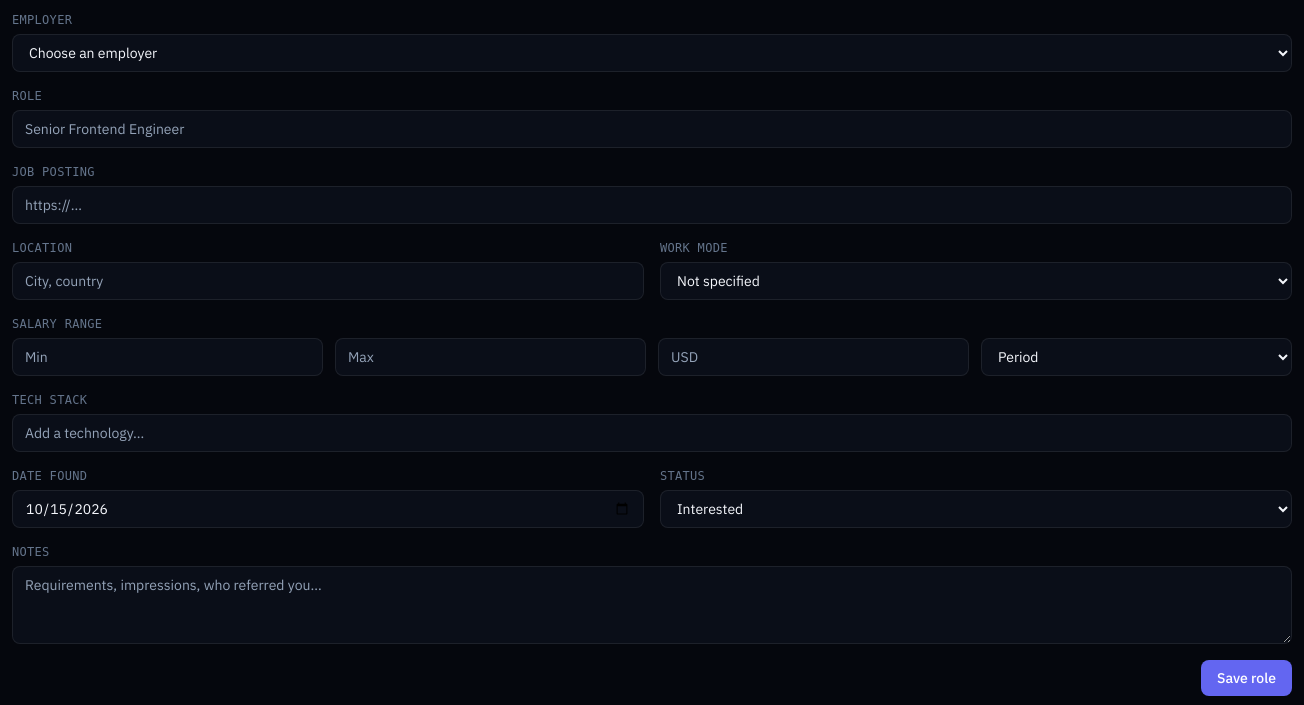
Test: ApplicationForm › asks for an employer and a role when none is fixed
This screenshot has width=1304, height=705.
What coordinates should you click on to do the following:
click the button "Save role"
I would click on:
 (1246, 678)
Its box is x1=1201 y1=660 x2=1292 y2=696.
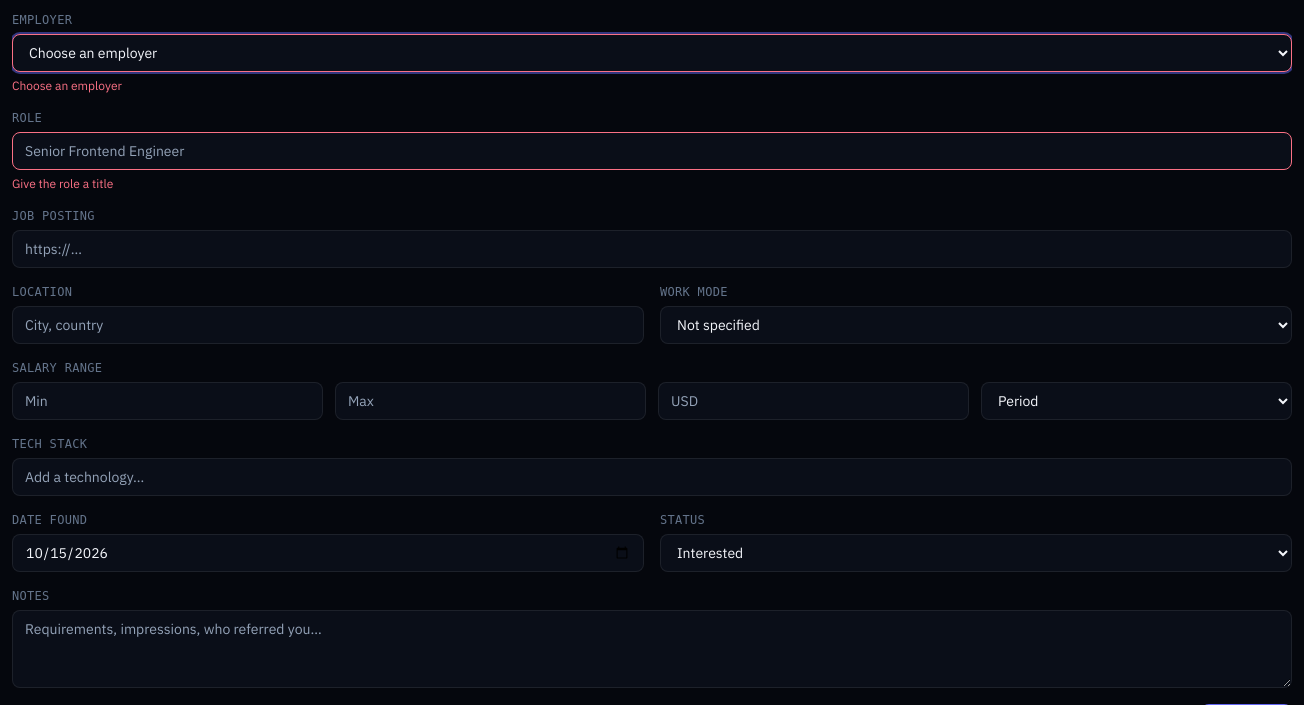
Expected: the text "Give the role a title" is shown, x1=12 y1=176 x2=113 y2=191
